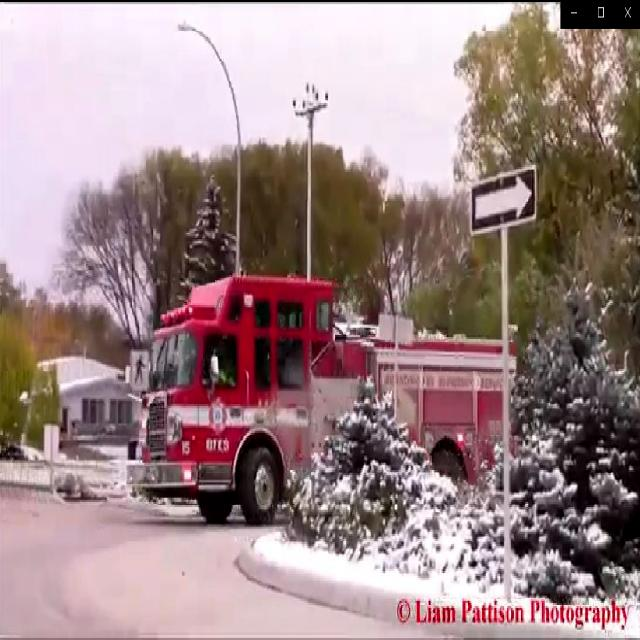emergency: (132, 270, 524, 528)
